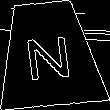N_N: (22, 27, 75, 81)
